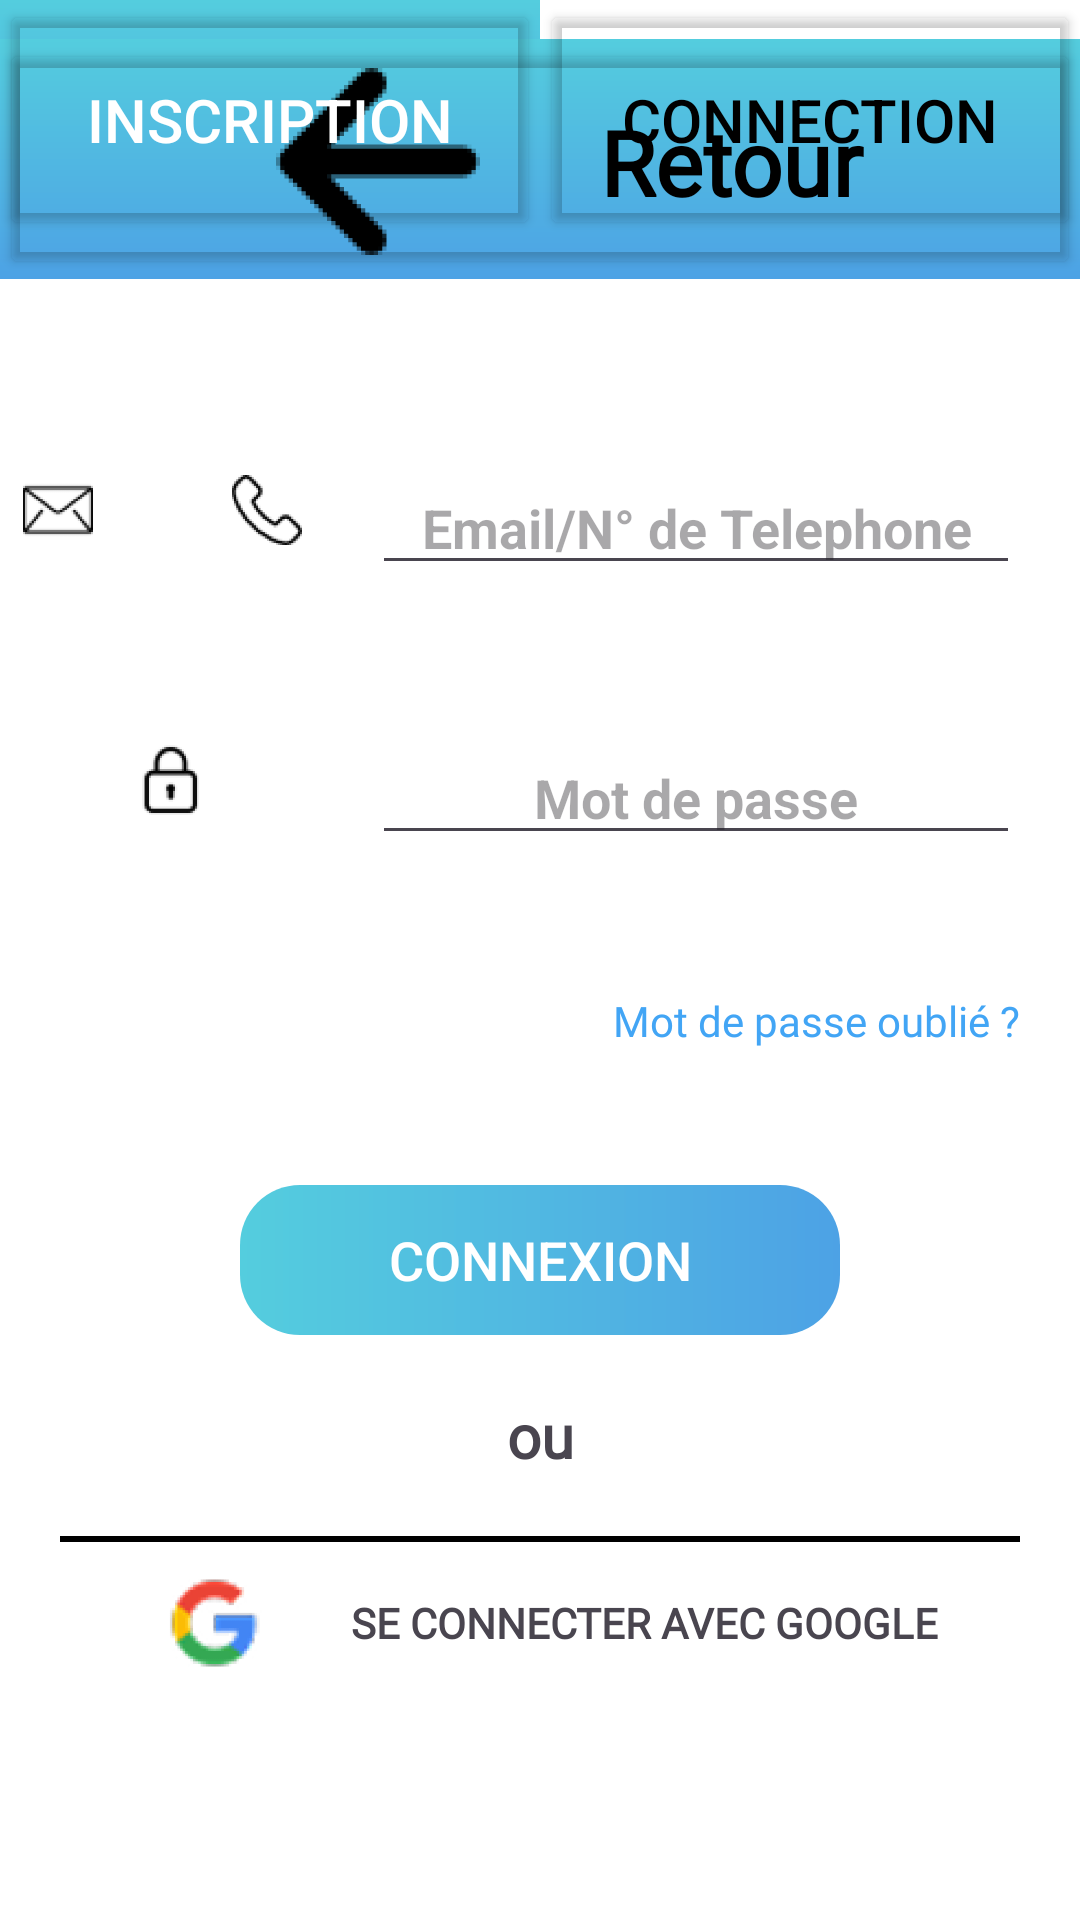

Named icons in this screenshot (1080 × 1920) and their centers, point (x, y):
tel: point (267, 510)
verrou: point (171, 780)
